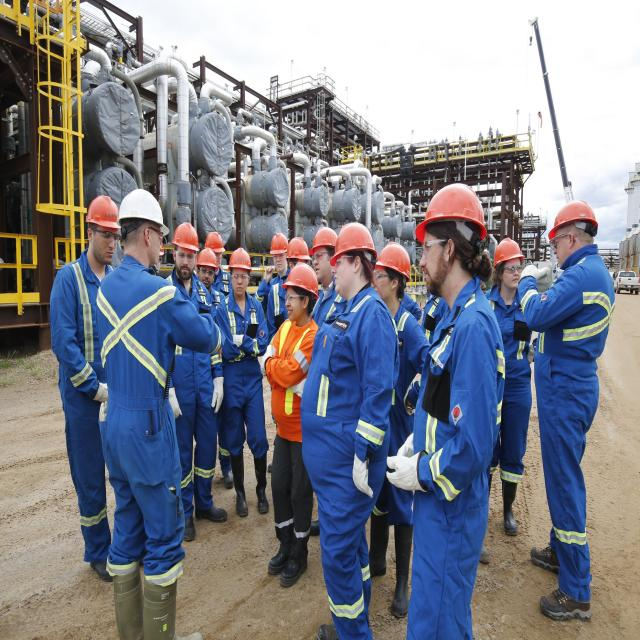body: (92, 185, 226, 640), (384, 180, 506, 640), (296, 218, 403, 640), (514, 198, 618, 624), (49, 193, 122, 584), (366, 240, 434, 618), (162, 221, 229, 542), (258, 260, 322, 590), (486, 237, 539, 537), (214, 245, 270, 518), (265, 235, 314, 350), (308, 226, 348, 329), (254, 231, 291, 310), (195, 247, 227, 325), (403, 279, 449, 333), (203, 231, 232, 298)
